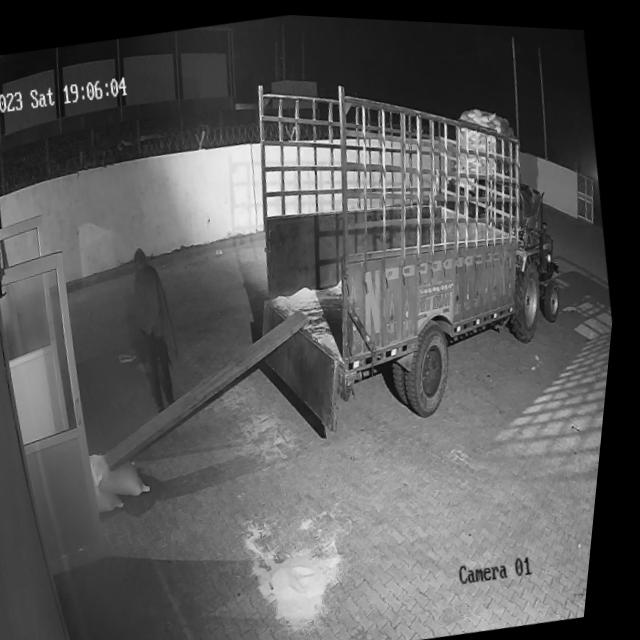sack: (95, 442, 164, 503)
